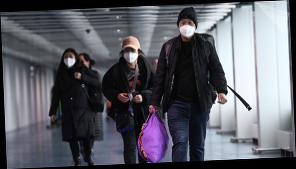with_mask: (178, 18, 197, 39), (123, 47, 139, 64), (63, 52, 77, 68)
